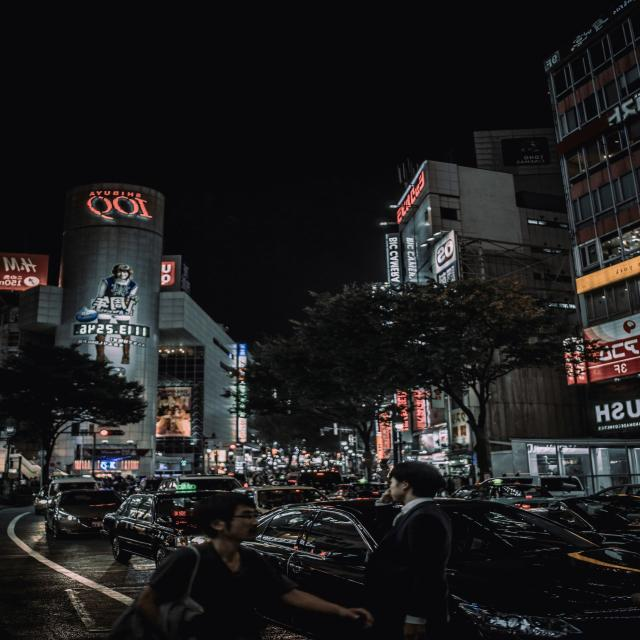adult: (139, 489, 373, 640), (364, 461, 454, 640)
